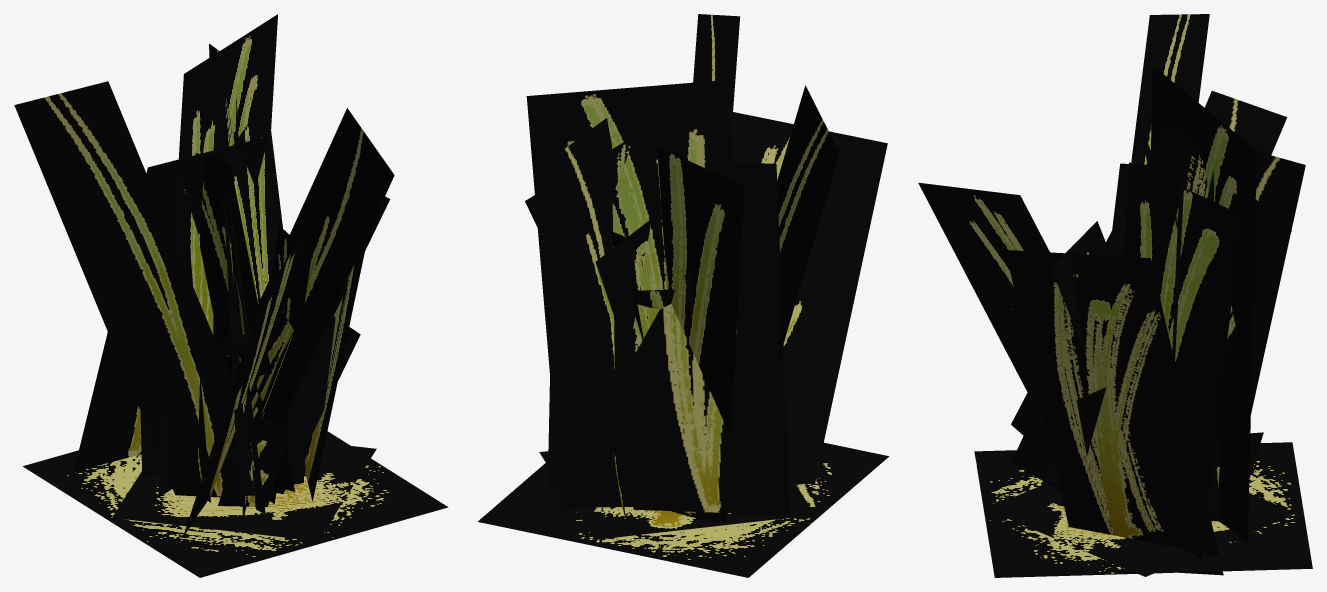
File: grass37.fbx
The picture shows the model from 3 angles, left to right: view 1: azimuth 30°, elevation 25°; view 2: azimuth 150°, elevation 25°; view 3: azimuth 270°, elevation 25°; orthographic projection.
Parts seen in each view (by area): view 1: grass5_BAKED; view 2: grass5_BAKED; view 3: grass5_BAKED.
Boxes of the visible parts, x1,y1,x2,y2 form: grass5_BAKED: (14,14,448,577); grass5_BAKED: (477,14,888,577); grass5_BAKED: (918,14,1312,577).
Size of the model in its own units: 46.62 by 45.14 by 61.71.
